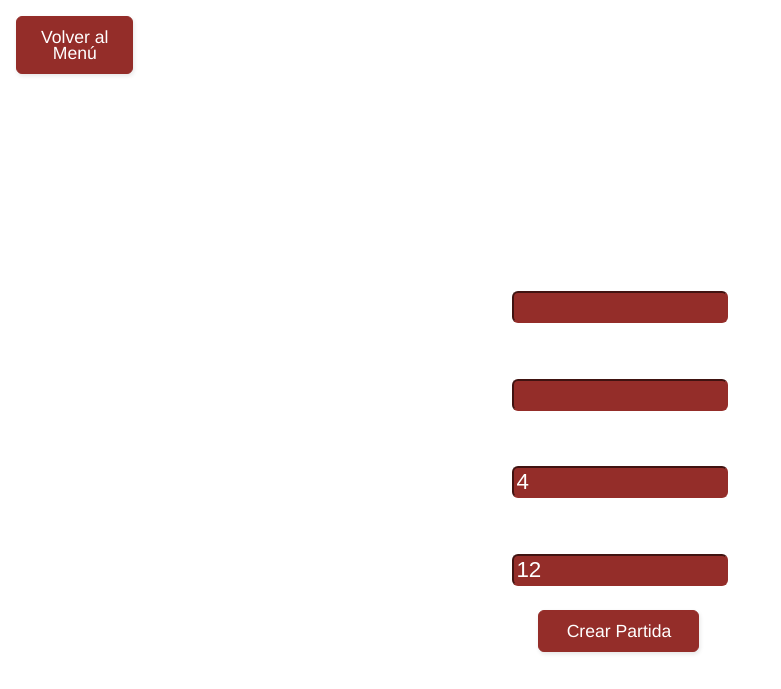
Test: GameCreationForm › should display error when value has quotation marks
The image size is (781, 689).
Type "\"LaCosa\"" into the field labelled "Nombre Partida" at (620, 395), box [512,379,728,411]
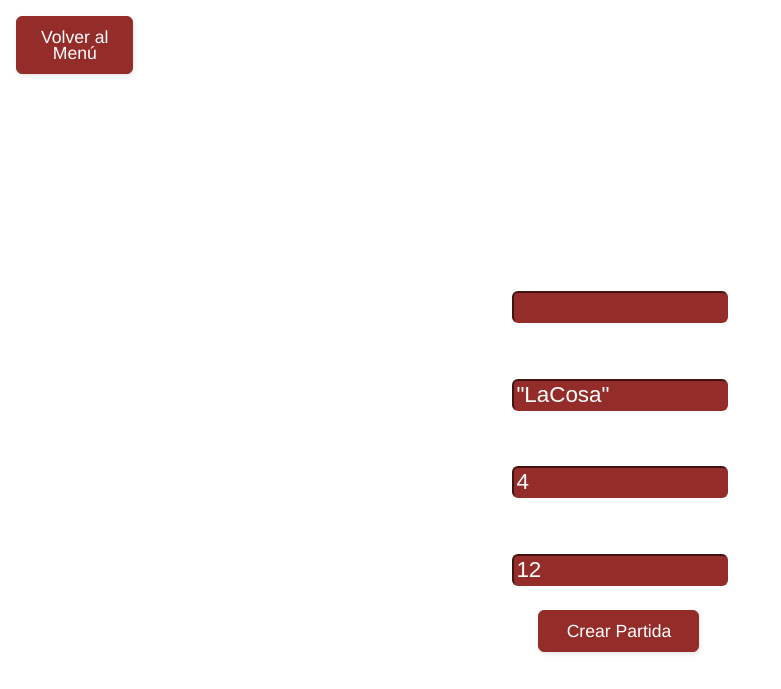
Type "\"Player1\"" into the field labelled "Nombre Host" at (620, 307), box [512,291,728,323]
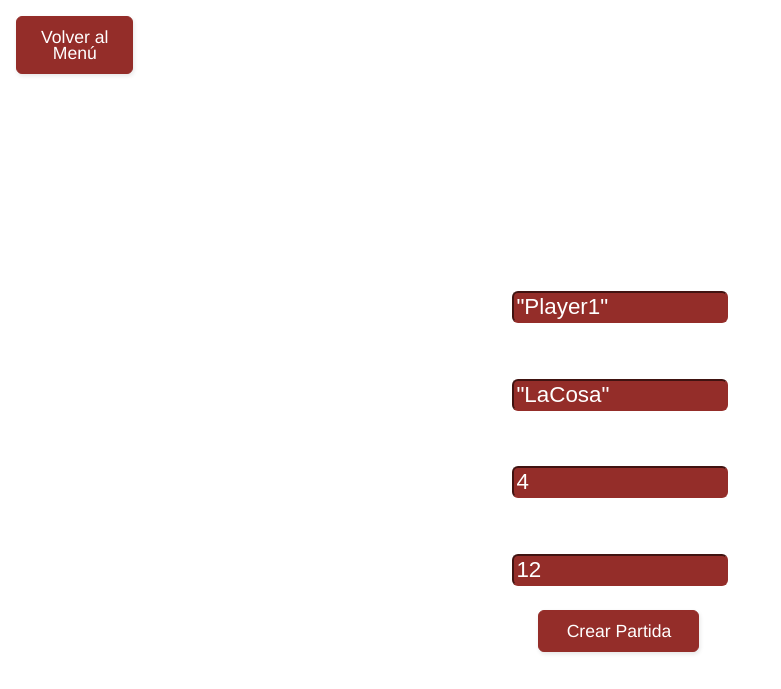
Click the button "Crear Partida" at (619, 630), box [538,610,699,652]
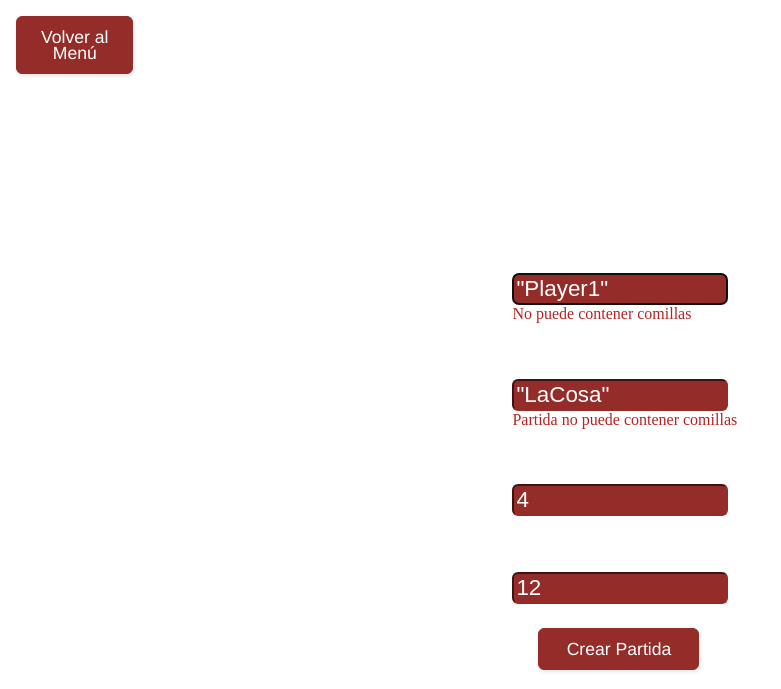
Now the text "No puede contener comillas" is shown, box [512,305,691,322]
Now the text "Partida no puede contener comillas" is shown, box [512,411,764,429]
